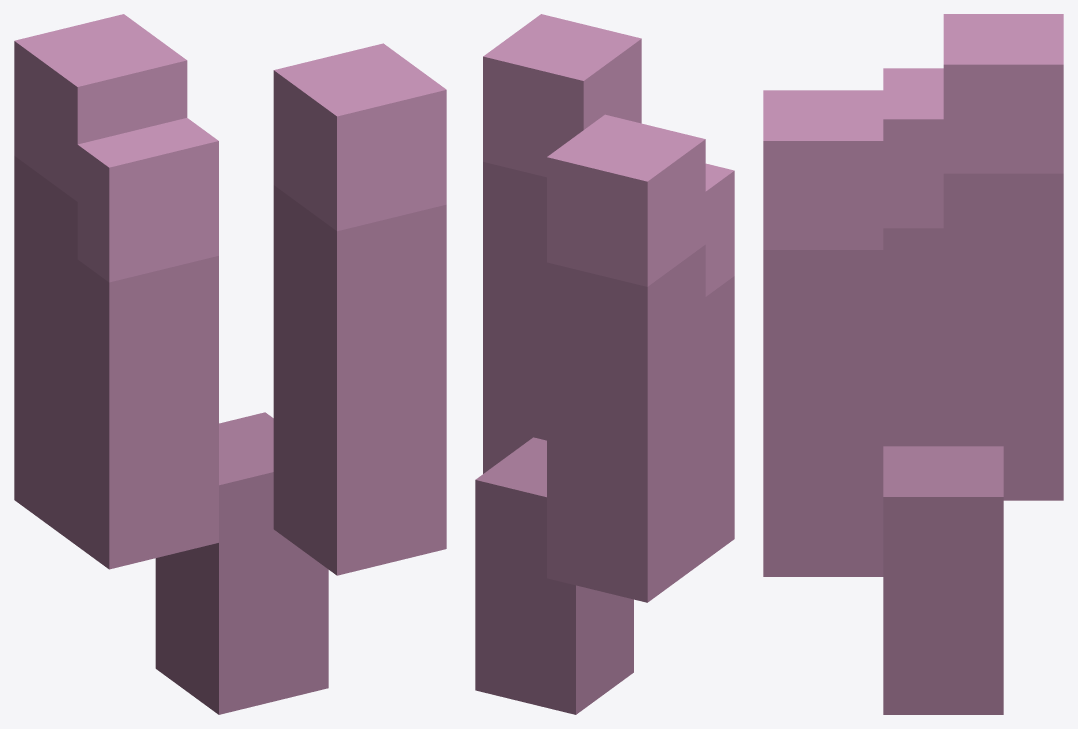
Rendered from coral_blando_01.glb.
3 views of the same model, side by side, from view 1: azimuth 30°, elevation 25°; view 2: azimuth 150°, elevation 25°; view 3: azimuth 270°, elevation 25° (orthographic). The views are drawn at different scales.
Parts seen in each view (by area): view 1: coral_blando_01; view 2: coral_blando_01; view 3: coral_blando_01.
Boxes of the visible parts, x1,y1,x2,y2 form: coral_blando_01: [14, 14, 446, 714]; coral_blando_01: [475, 14, 734, 714]; coral_blando_01: [763, 14, 1063, 714].
Size of the model in its own units: 0.5 by 1.1 by 0.5.
